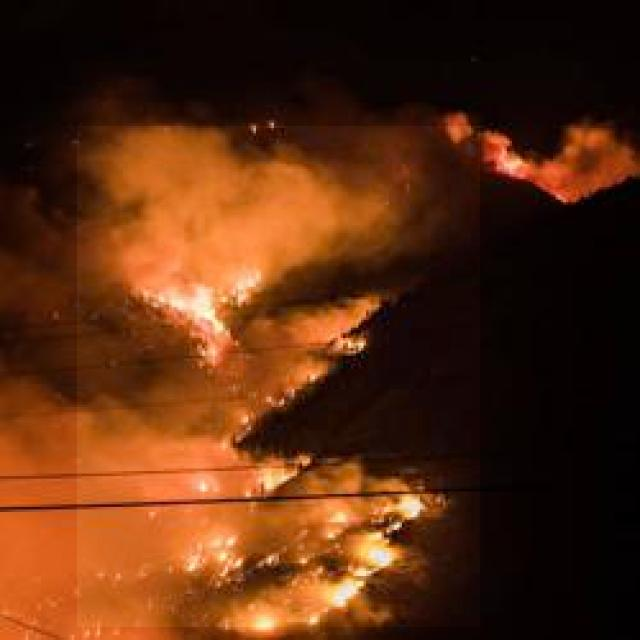Fire: (77, 126, 480, 627)
